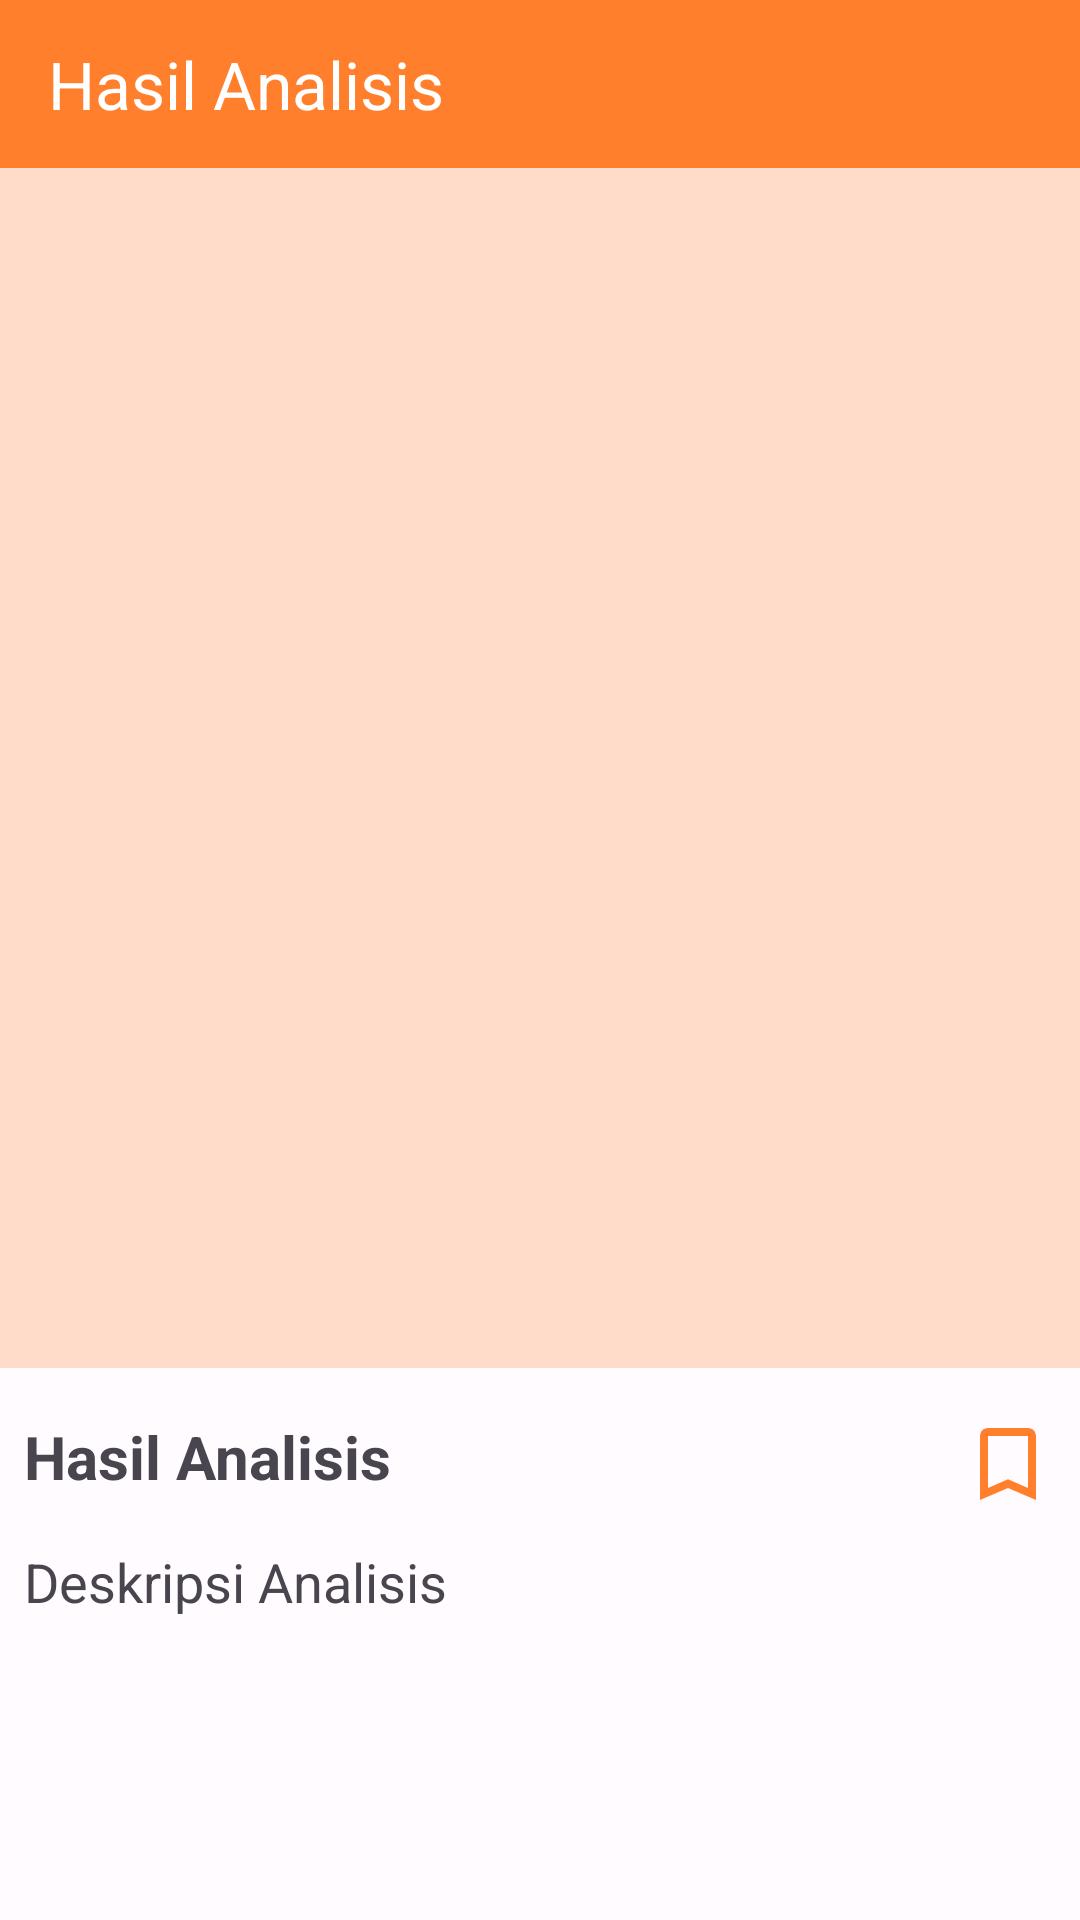

Named icons in this screenshot (1080×1920) and their centers, (x,y):
Savemark: (1008,1464)
